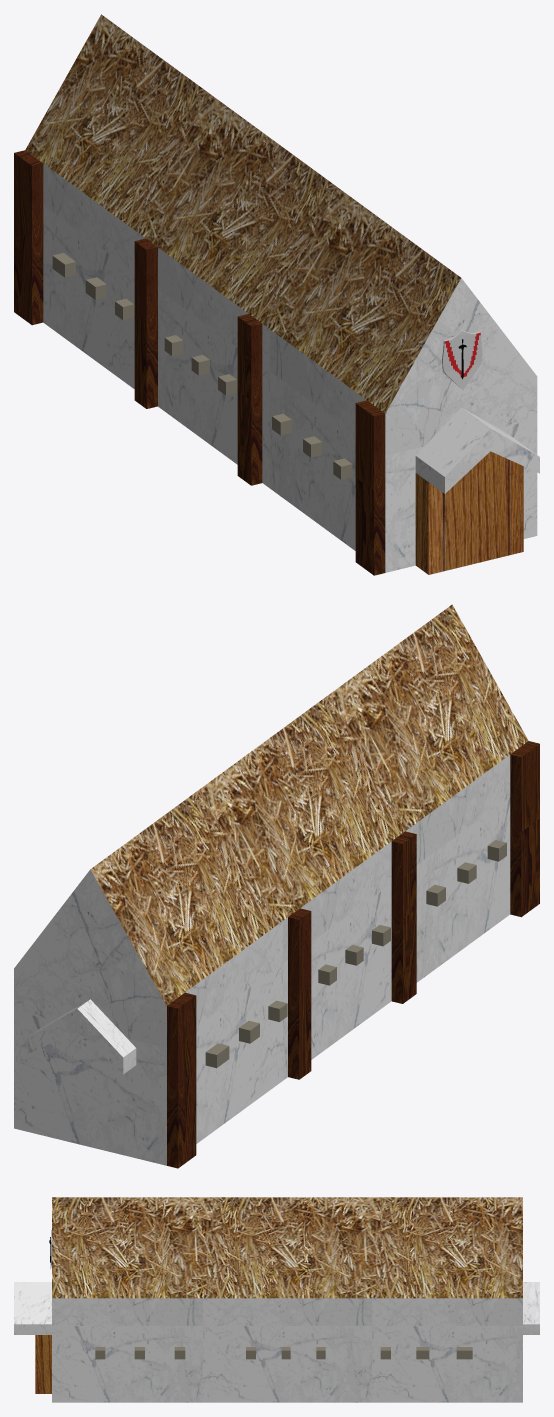
Rendered from greek_academy_final.fbx.
The picture shows the model from 3 angles, top to bottom: view 1: azimuth 30°, elevation 25°; view 2: azimuth 150°, elevation 25°; view 3: azimuth 270°, elevation 25°; orthographic projection. The views are drawn at different scales.
Parts seen in each view (by area): view 1: espada; view 2: espada; view 3: espada.
Part boxes in pixels (left/top/right/bottom): espada: left=14, top=14, right=539, bottom=575; espada: left=14, top=604, right=539, bottom=1168; espada: left=14, top=1197, right=539, bottom=1402.
Size of the model in its own units: 156 by 236 by 621.
8 materials, 4 textured.
